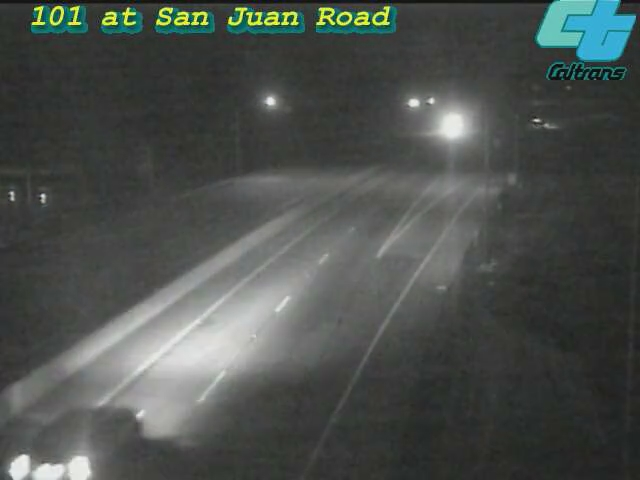vehicle: (13, 397, 123, 480), (425, 102, 475, 152), (514, 99, 564, 149)
